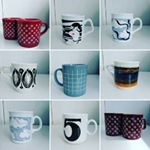cups: (5, 108, 47, 145), (1, 60, 43, 97), (104, 57, 145, 94), (53, 61, 94, 98), (59, 111, 98, 146), (55, 12, 95, 46), (108, 8, 144, 44), (15, 17, 51, 50), (120, 111, 148, 144)
